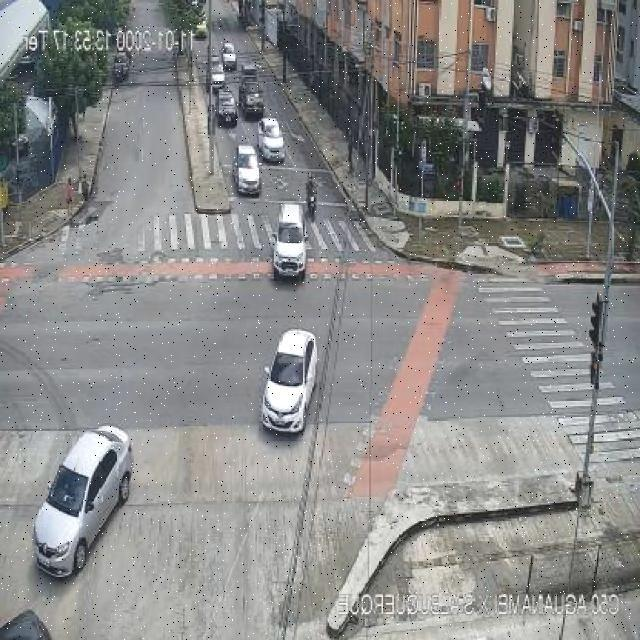Car: (34, 422, 134, 582), (260, 328, 318, 434), (270, 204, 307, 280), (233, 144, 262, 195), (257, 117, 285, 161), (238, 78, 264, 119), (217, 89, 239, 126), (210, 62, 226, 91), (113, 53, 129, 82), (221, 42, 237, 70), (209, 55, 221, 72)
